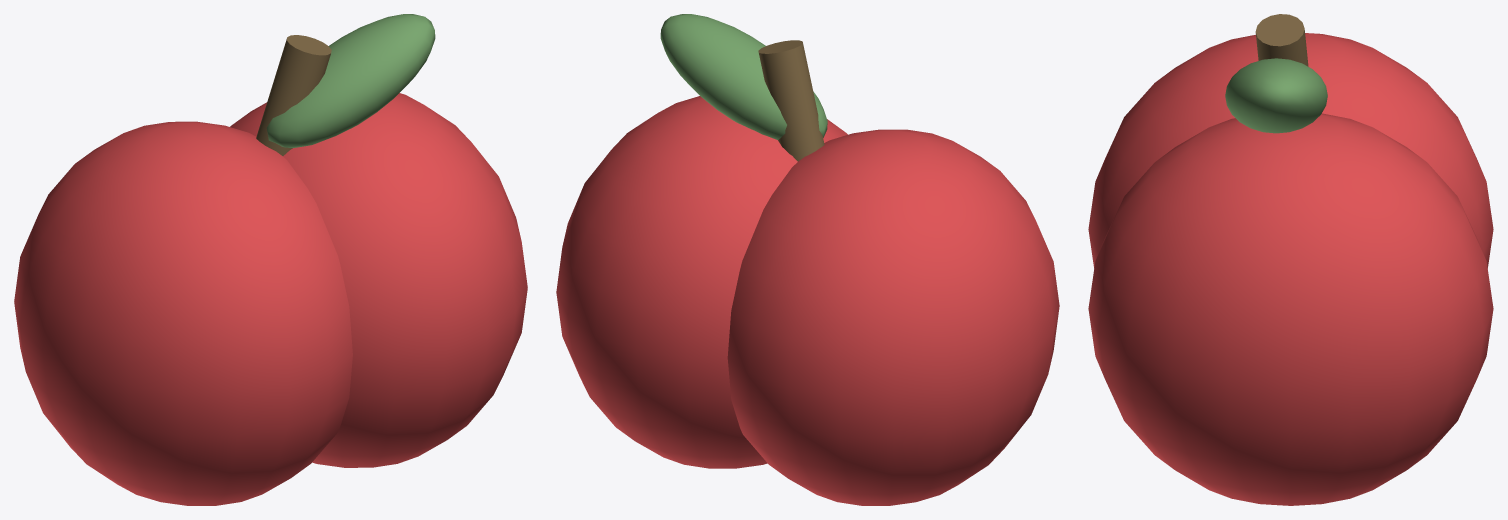
The model's file is apple.glb.
3 views of the same model, side by side, from view 1: azimuth 30°, elevation 25°; view 2: azimuth 150°, elevation 25°; view 3: azimuth 270°, elevation 25° (orthographic). The views are drawn at different scales.
Parts seen in each view (by area): view 1: ball (×3), tube; view 2: ball (×3), tube; view 3: ball (×3), tube.
Boxes of the visible parts, x1,y1,x2,y2 form: ball (×3): [14, 14, 527, 505]; tube: [256, 35, 331, 155]; ball (×3): [556, 14, 1059, 505]; tube: [758, 40, 824, 161]; ball (×3): [1088, 33, 1493, 505]; tube: [1255, 14, 1308, 66].
Size of the model in its own units: 0.76 by 0.6797 by 0.56.
